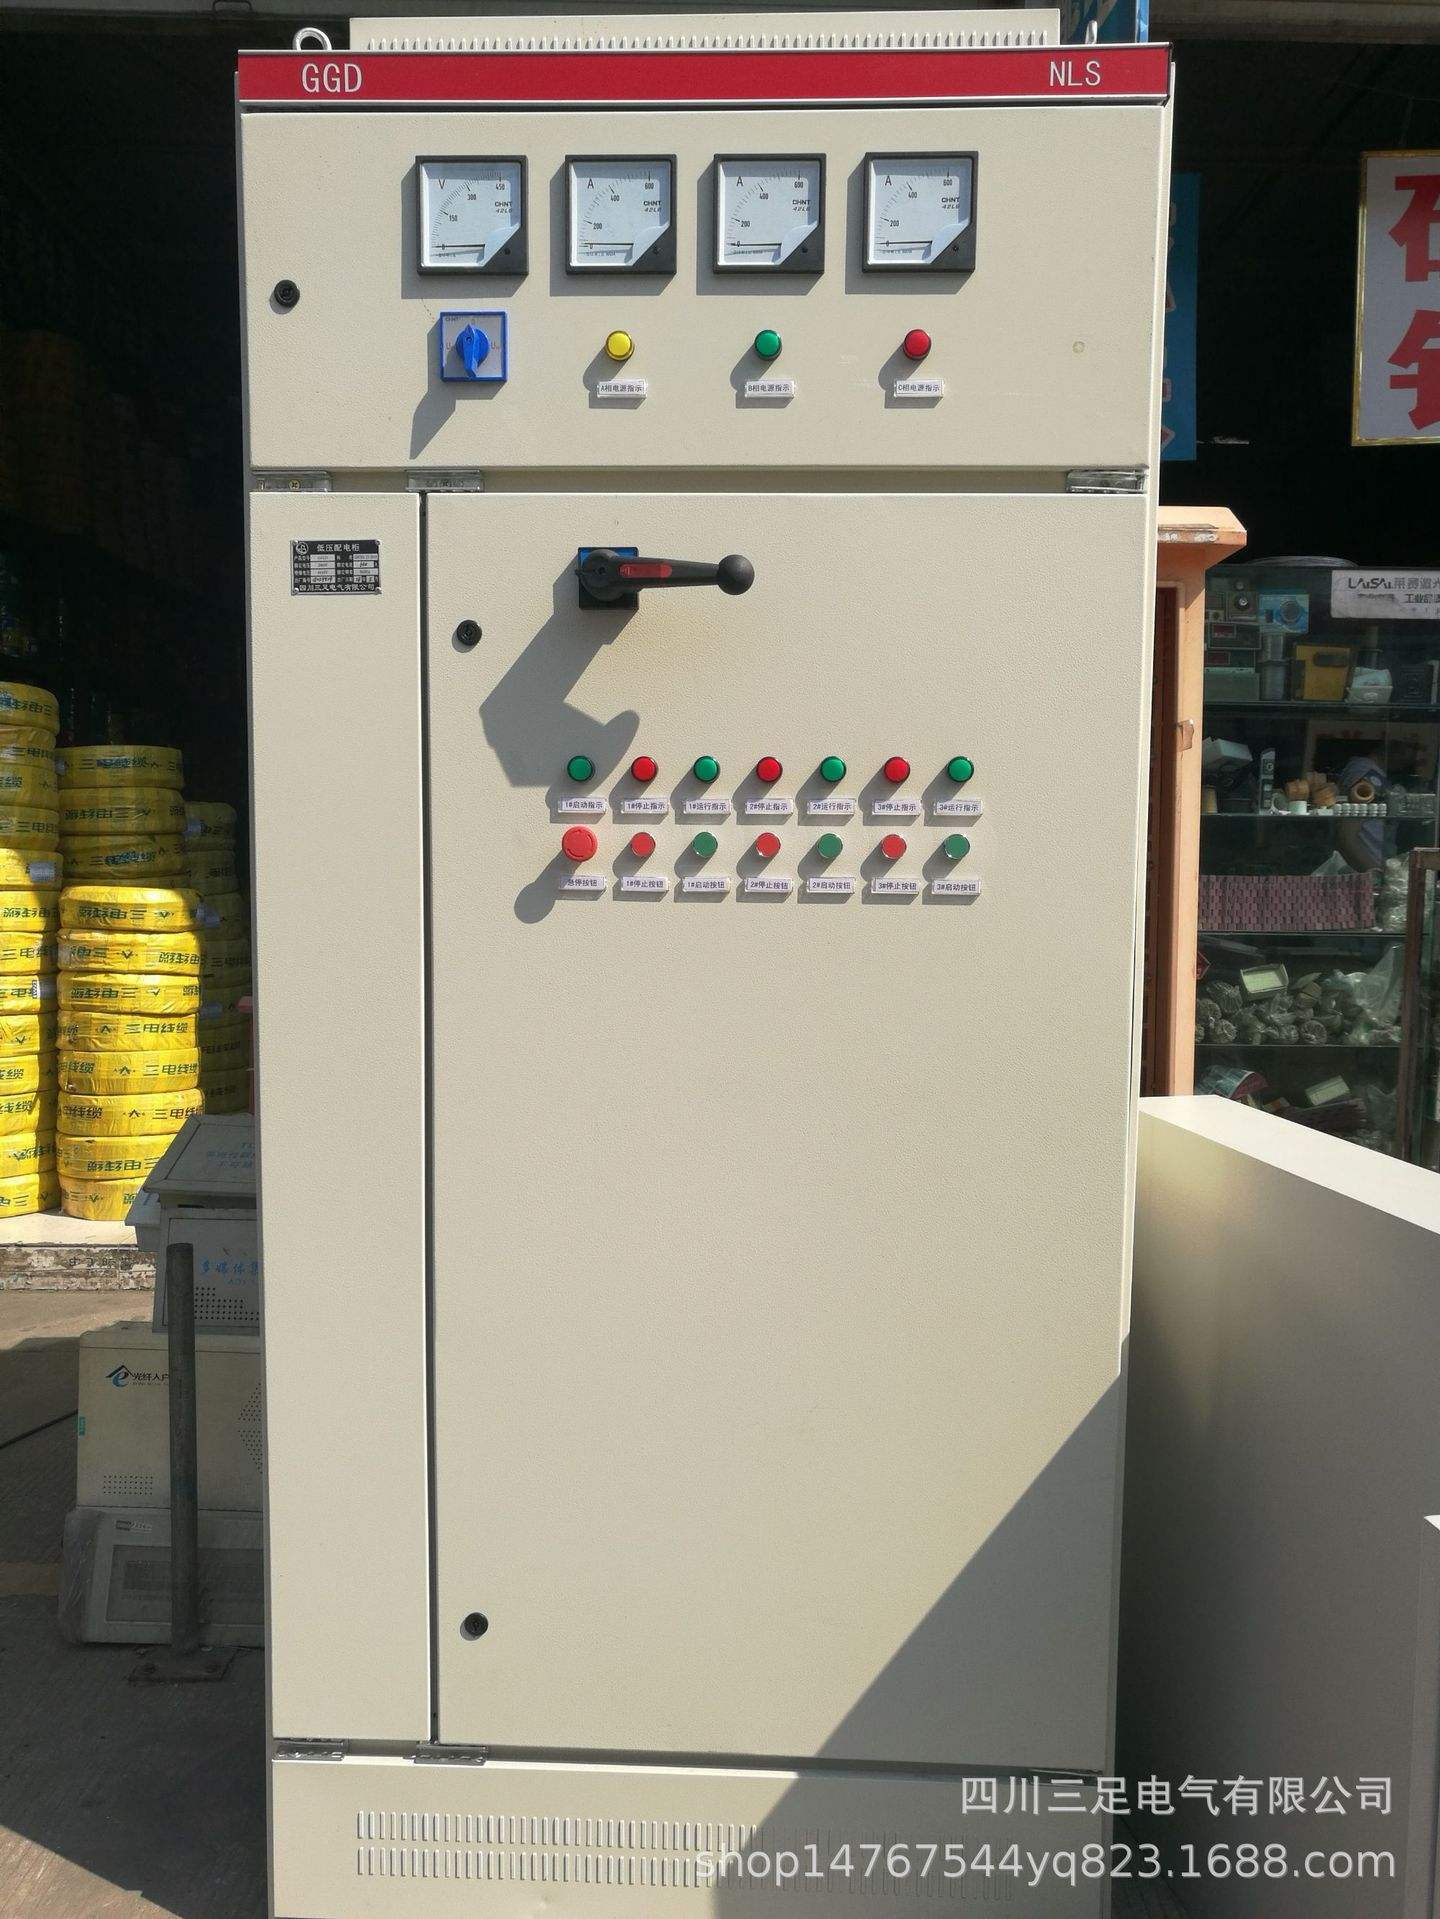pointer: (864, 151, 974, 266), (417, 154, 525, 271), (715, 154, 821, 272), (566, 154, 672, 265)
